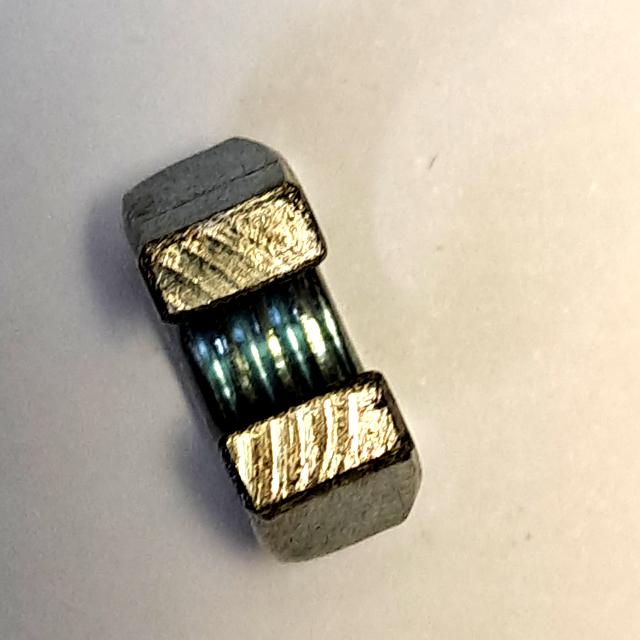Side-Fracture: (107, 124, 437, 575)
